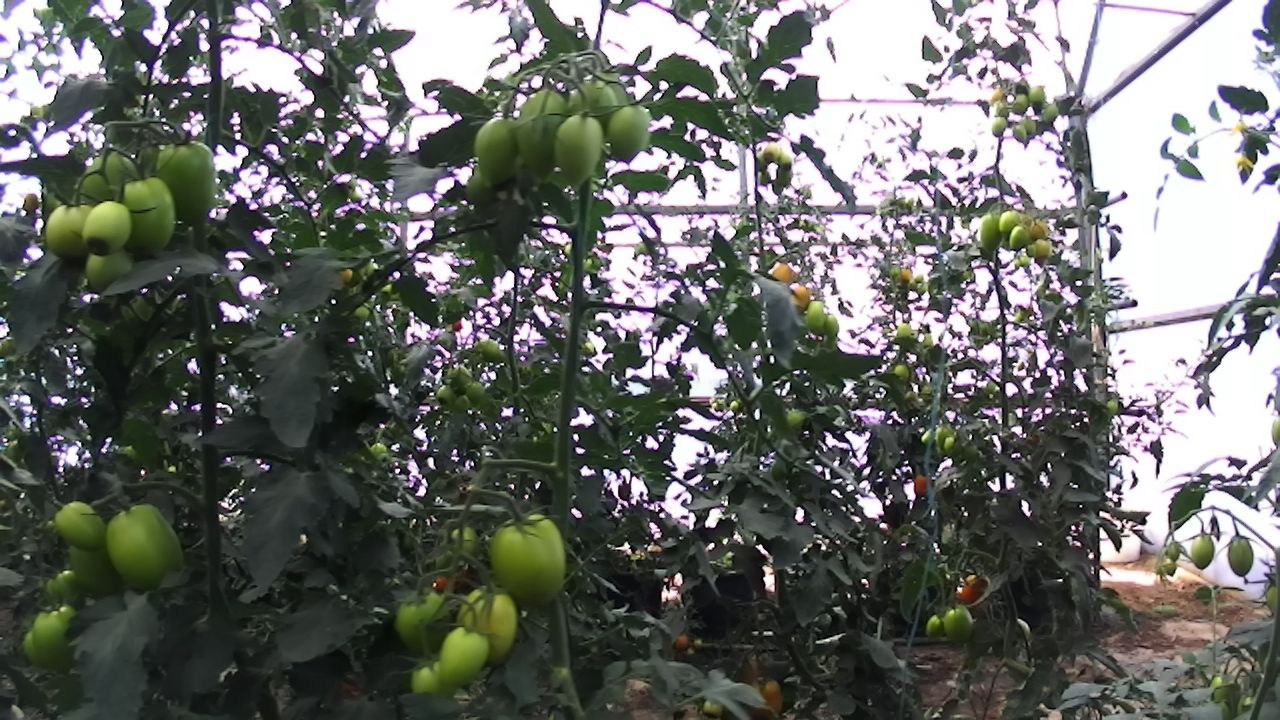tomato: (473, 495, 595, 628), (93, 487, 204, 614), (147, 119, 235, 236), (445, 574, 537, 680), (504, 75, 579, 189), (113, 166, 190, 269), (382, 576, 471, 659), (545, 103, 620, 201), (60, 527, 147, 609), (20, 594, 96, 685), (42, 488, 130, 562), (39, 192, 117, 270), (596, 88, 665, 175), (467, 108, 537, 193), (427, 618, 503, 696), (72, 141, 150, 215), (557, 66, 630, 143), (75, 190, 146, 262), (401, 645, 467, 714), (79, 241, 143, 300), (37, 562, 98, 614), (438, 518, 490, 570), (742, 669, 795, 720), (951, 565, 1001, 614), (936, 600, 983, 650), (455, 168, 504, 213), (1222, 528, 1260, 584), (1186, 527, 1222, 577), (782, 273, 819, 320), (974, 211, 1009, 254), (765, 255, 799, 292), (907, 467, 940, 504), (802, 293, 830, 335), (918, 610, 951, 644), (696, 690, 732, 720), (15, 187, 47, 219), (781, 402, 812, 435), (473, 335, 507, 365), (817, 309, 846, 343), (447, 362, 475, 397), (995, 205, 1025, 237), (667, 627, 697, 658), (430, 379, 461, 408), (1005, 220, 1031, 254), (462, 376, 491, 406), (1008, 87, 1035, 118), (759, 138, 787, 167), (771, 146, 799, 175), (771, 160, 797, 190), (1025, 215, 1053, 242), (989, 96, 1015, 125), (365, 435, 391, 463), (889, 359, 915, 387), (450, 388, 475, 417), (986, 82, 1012, 109), (1025, 81, 1050, 109), (1039, 99, 1064, 126), (932, 422, 952, 455), (988, 113, 1011, 140), (1031, 234, 1055, 259), (893, 318, 916, 344), (1163, 538, 1185, 564), (1009, 120, 1030, 147), (349, 301, 373, 324), (1018, 113, 1040, 137), (1161, 554, 1182, 579), (767, 175, 788, 199), (1103, 393, 1123, 417), (578, 337, 599, 359), (754, 167, 775, 188), (1022, 240, 1040, 262), (896, 265, 915, 284), (941, 433, 958, 453), (726, 397, 743, 414), (905, 276, 919, 293), (912, 271, 927, 286)
